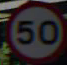Speed limit: (3, 0, 62, 57)
